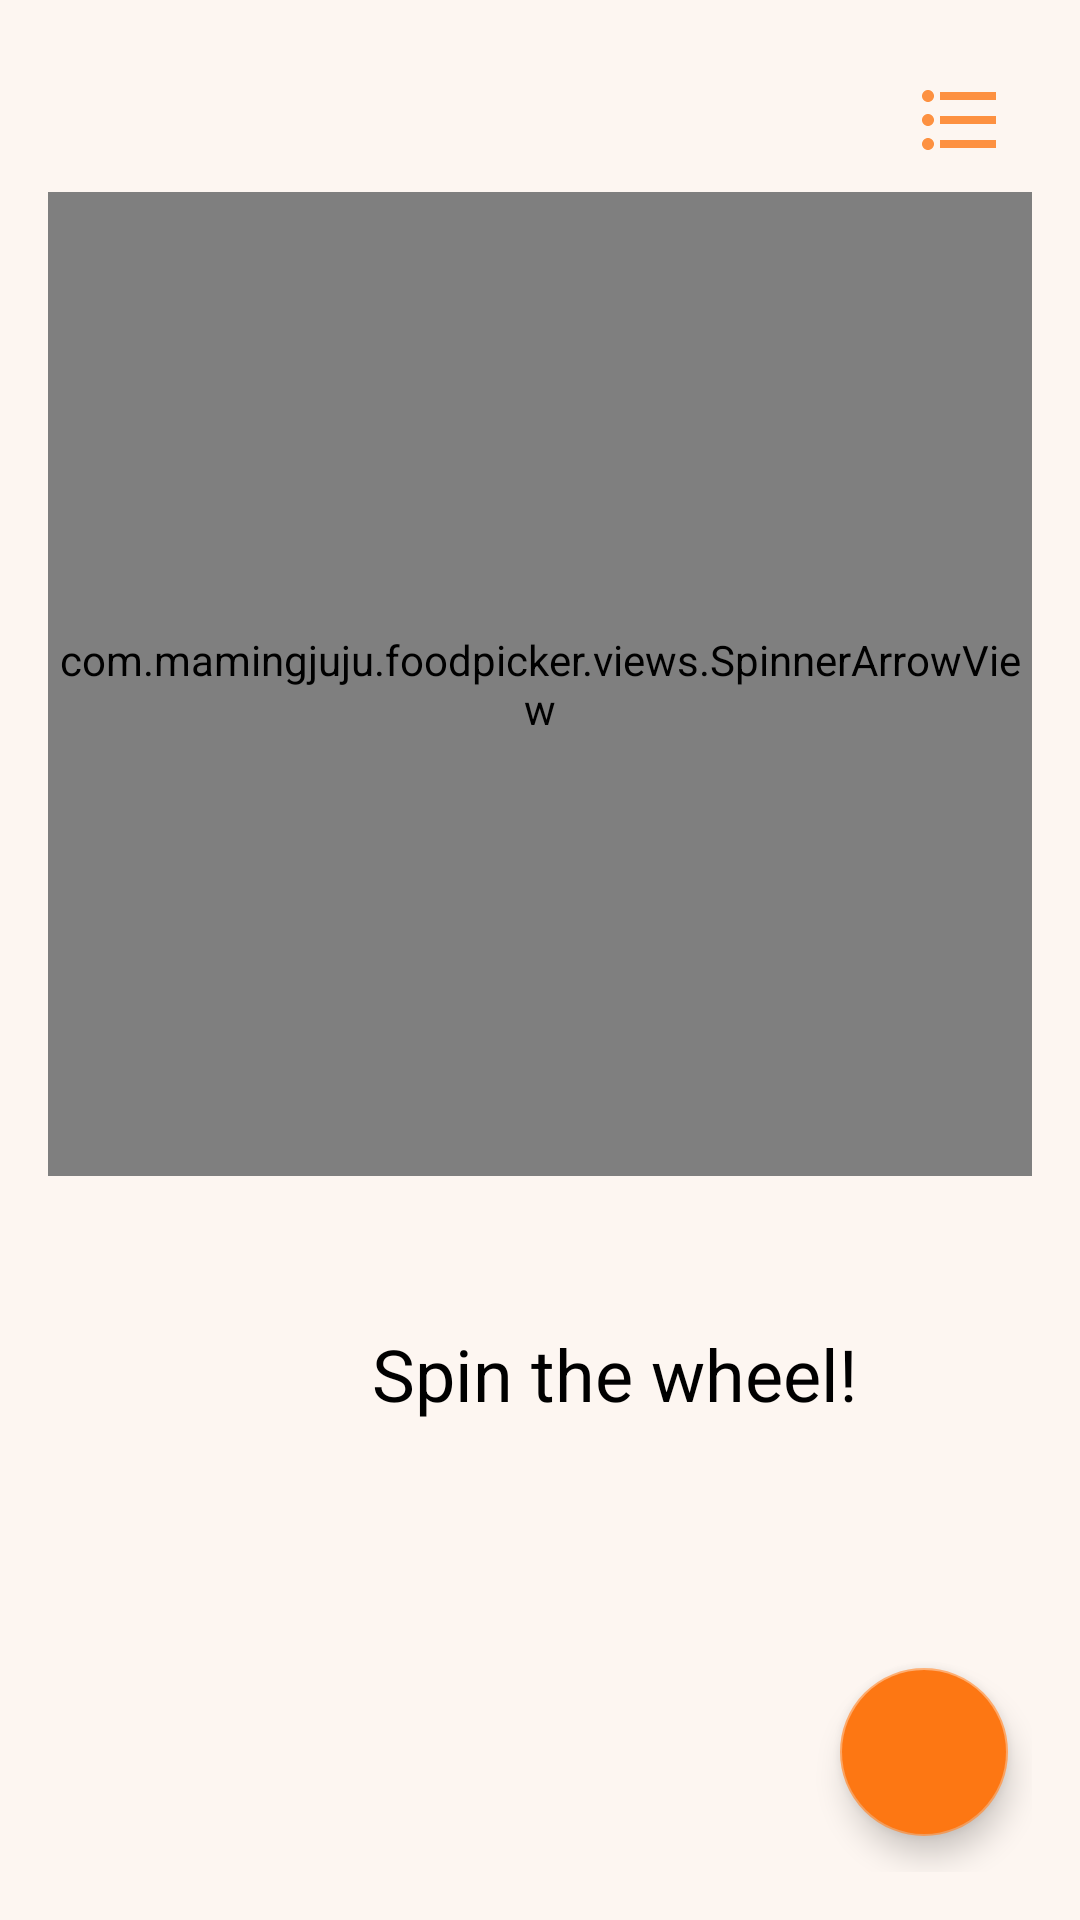

Where to tap for icons on this 1080 x 1920 app screen, as point (x, y):
spinner list: point (959, 120)
